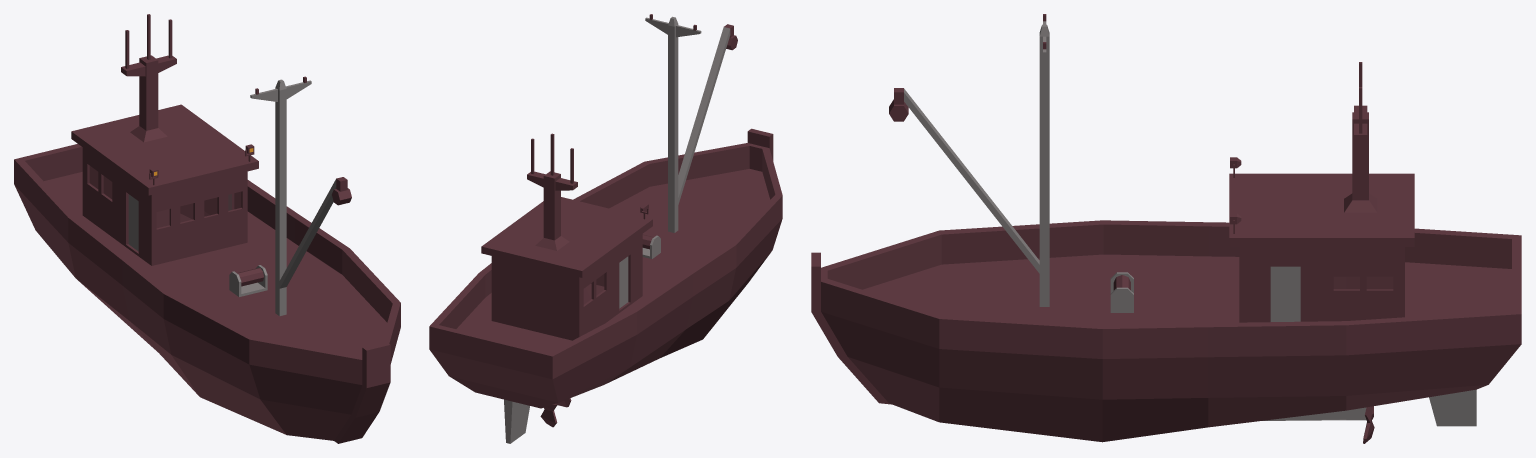
The model's file is boat-fishing.fbx.
3 renders of one model, left to right at view 1: azimuth 30°, elevation 25°; view 2: azimuth 150°, elevation 25°; view 3: azimuth 270°, elevation 25°, orthographic. The views are drawn at different scales.
Visible parts, largest first — view 1: boat-fishing; view 2: boat-fishing; view 3: boat-fishing.
Part boxes in pixels (x1,y1,x2,y2): boat-fishing: (14, 14, 400, 443); boat-fishing: (429, 14, 782, 443); boat-fishing: (811, 14, 1521, 443).
Size of the model in its own units: 7.78 by 13.84 by 21.46.
